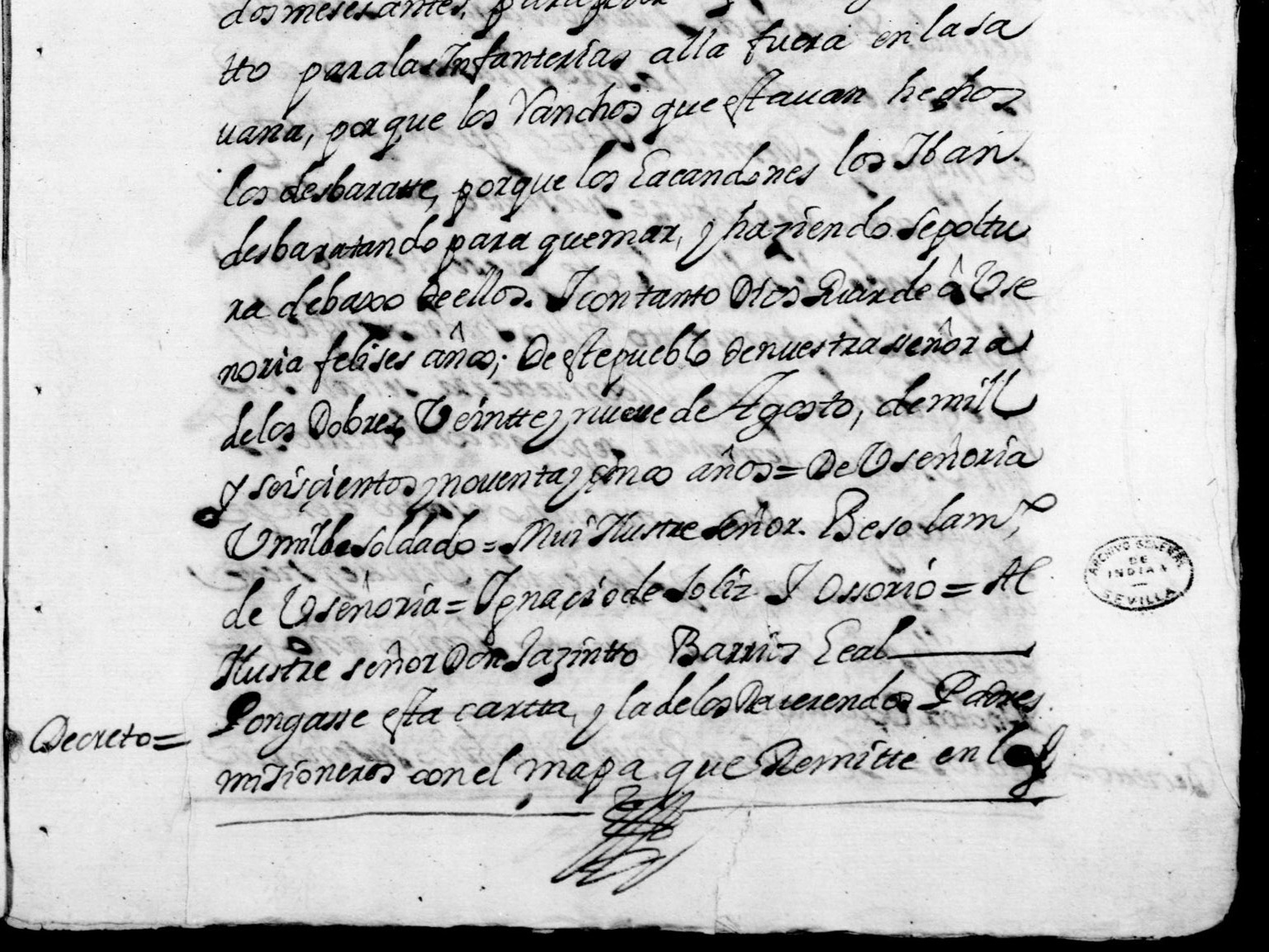lacandon: (628, 140, 820, 188)
